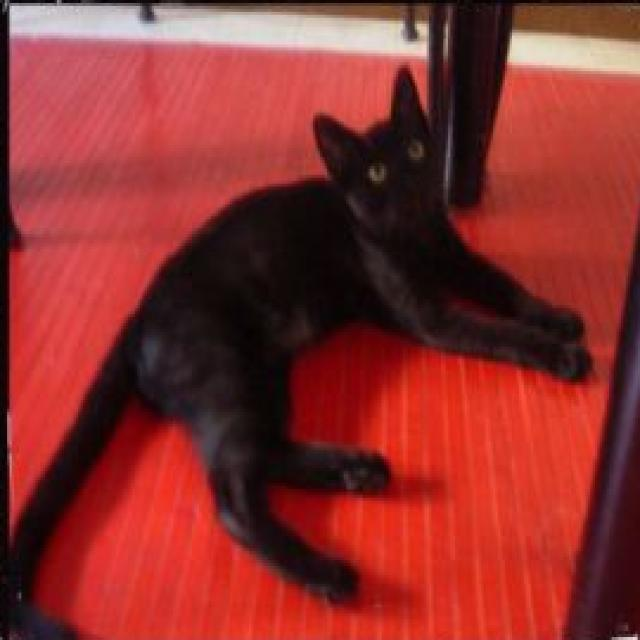Bombay: (5, 62, 592, 640)
